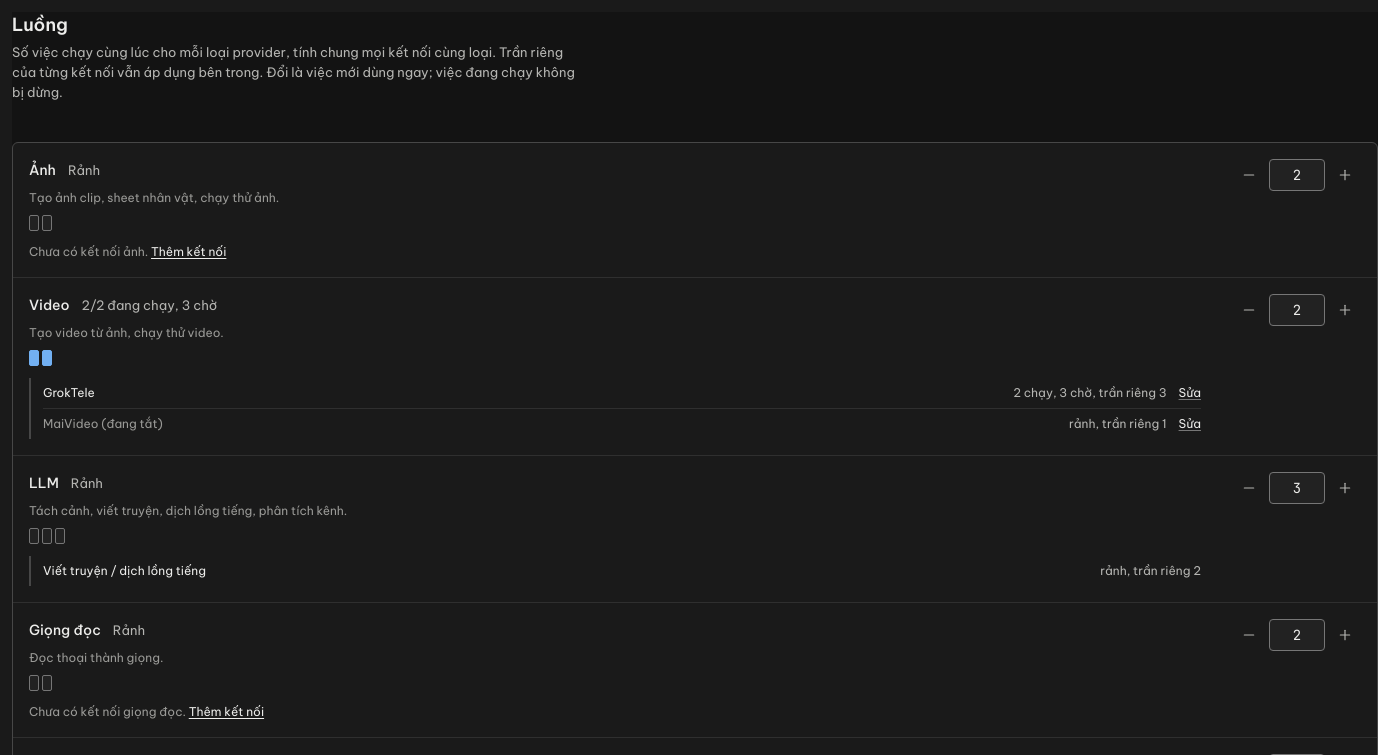
Test: Cài đặt › Luồng › nút bớt bị khoá ở trần 1; hạ trần dưới số đang chạy thì báo việc làm nốt
This screenshot has width=1378, height=755.
Click the button named "Bớt một luồng Video" at (1249, 310), box [1233,294,1265,326]
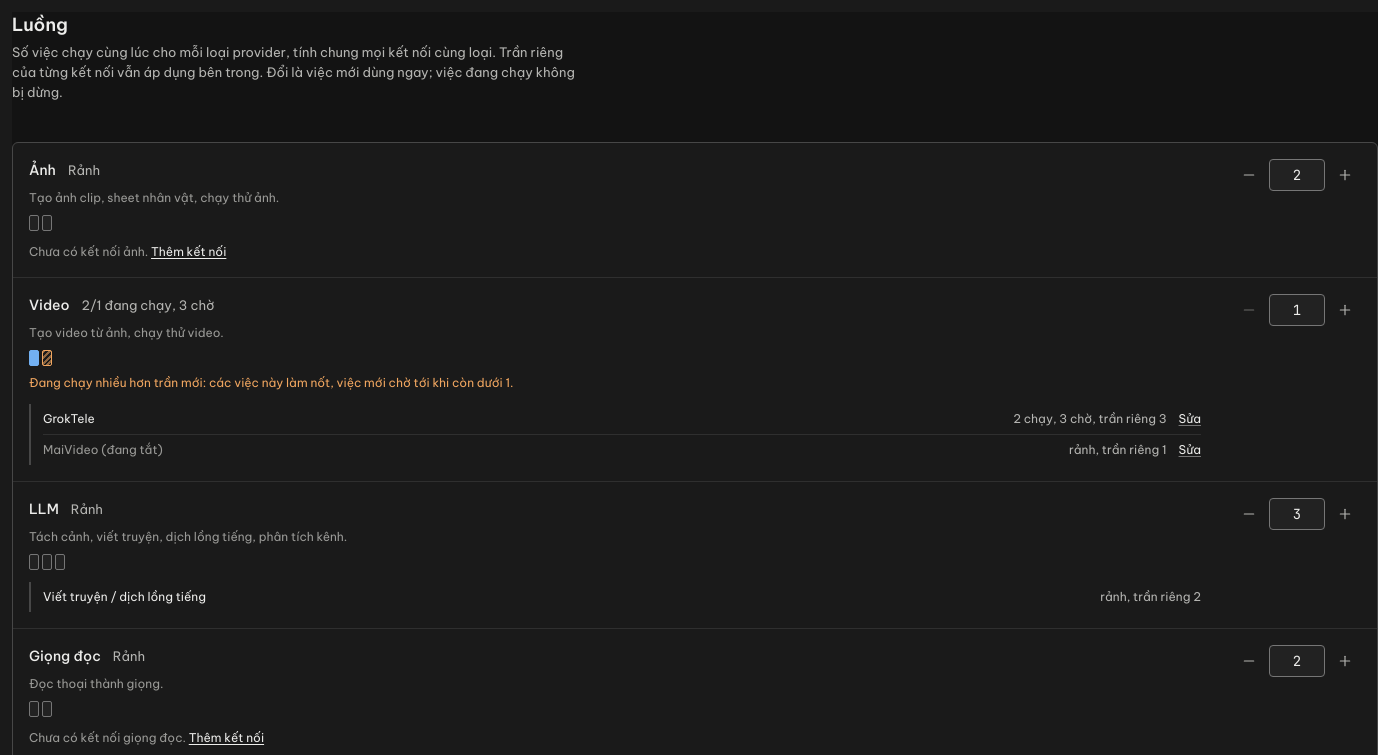
Expected: the text "Đang chạy nhiều hơn trần mới" is shown, [29,375,506,390]
